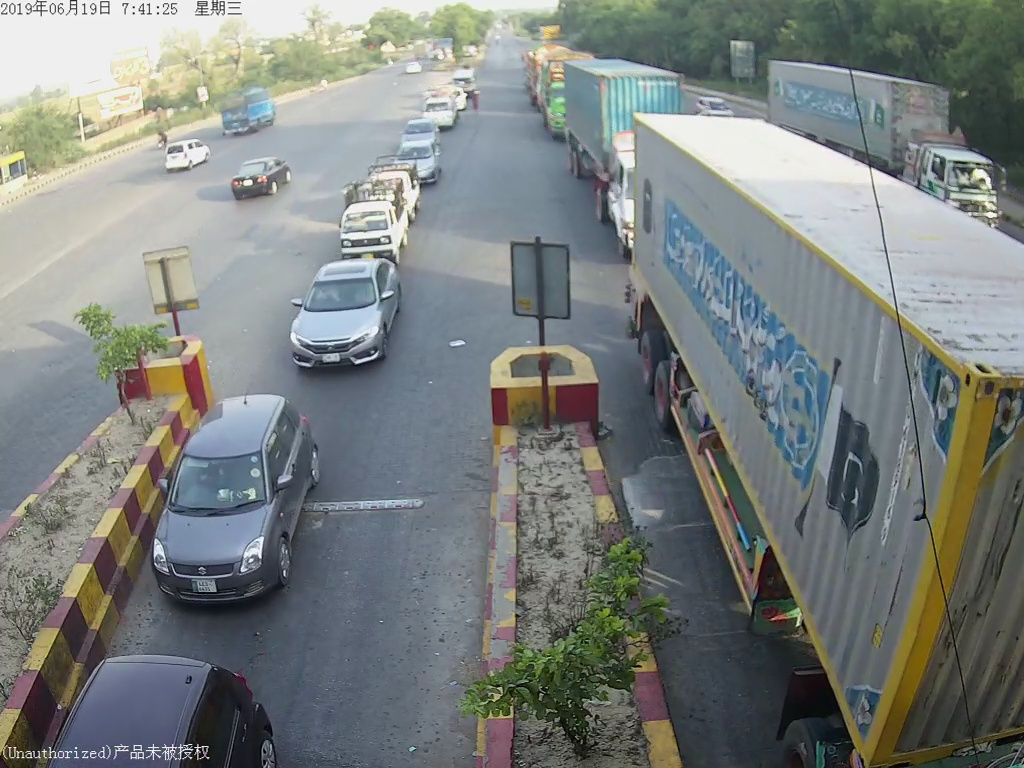Cat-1: (153, 408, 326, 603), (284, 259, 404, 366), (333, 188, 416, 254)
